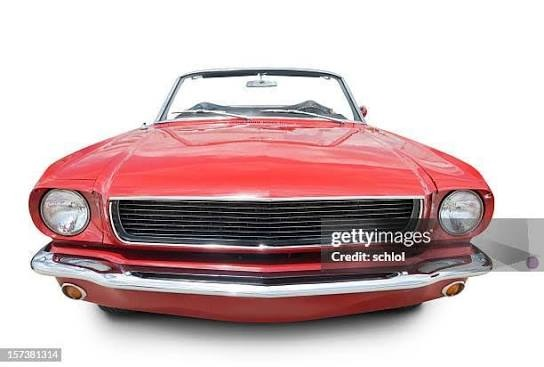car: (24, 76, 511, 317)
